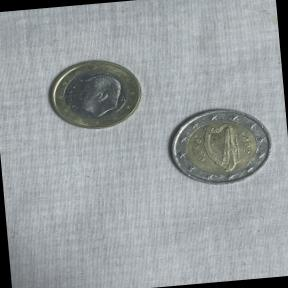1 Euro-B: (40, 52, 150, 135)
2 Euro-B: (161, 101, 281, 194)
